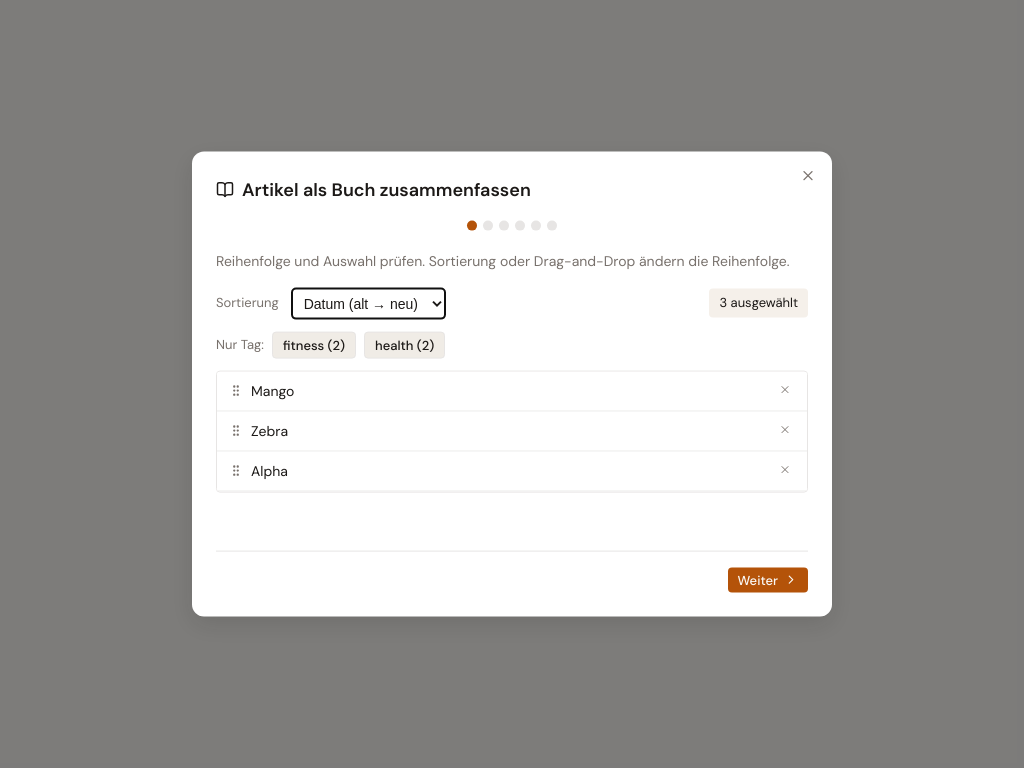
Test case: ConvertToBookWizard author datalist (Bug 8 Phase 2) › renders the datalist + author input on Step 1
This screenshot has width=1024, height=768.
Click the button with test id "convert-to-book-wizard-step-0-next": click(768, 580) 728,567 -> 808,592
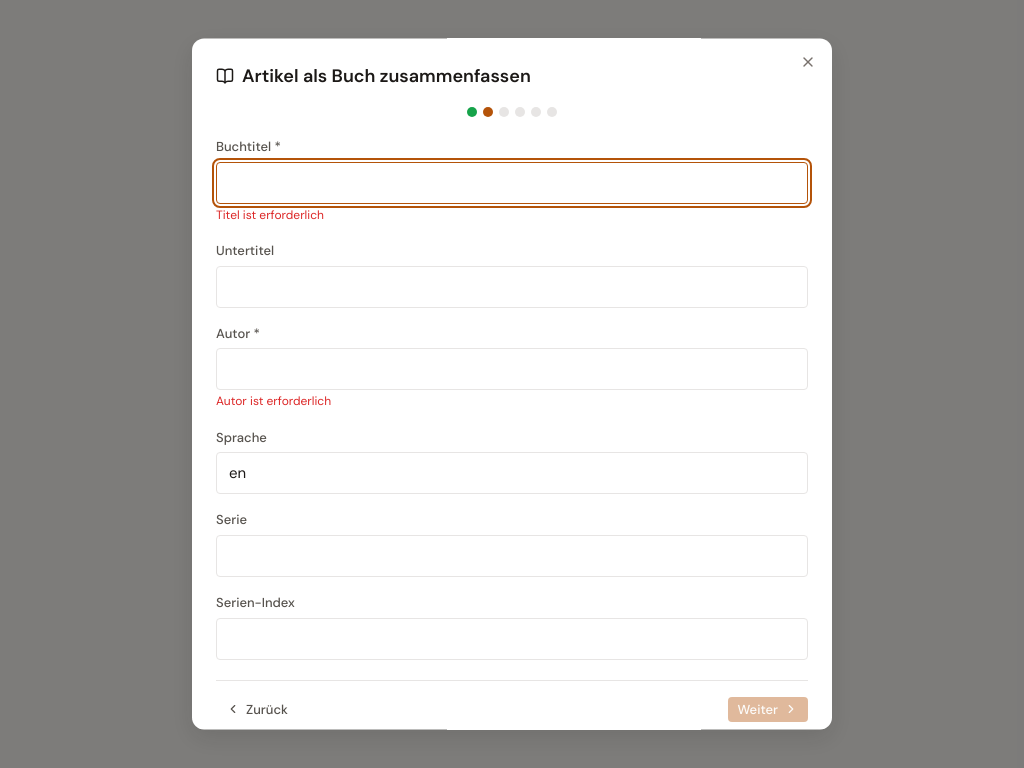
Check: the field with test id "convert-to-book-wizard-metadata-author" is shown, box 216,349 -> 808,391
